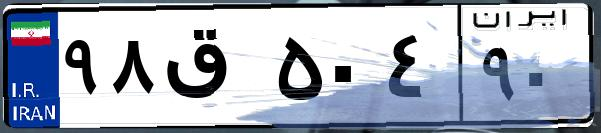0: (330, 28, 385, 110), (525, 38, 570, 115)
4: (385, 28, 445, 110)
5: (270, 28, 330, 110)
8: (110, 28, 158, 98)
9: (57, 26, 110, 100), (475, 38, 525, 113)
ق: (158, 20, 270, 120)
